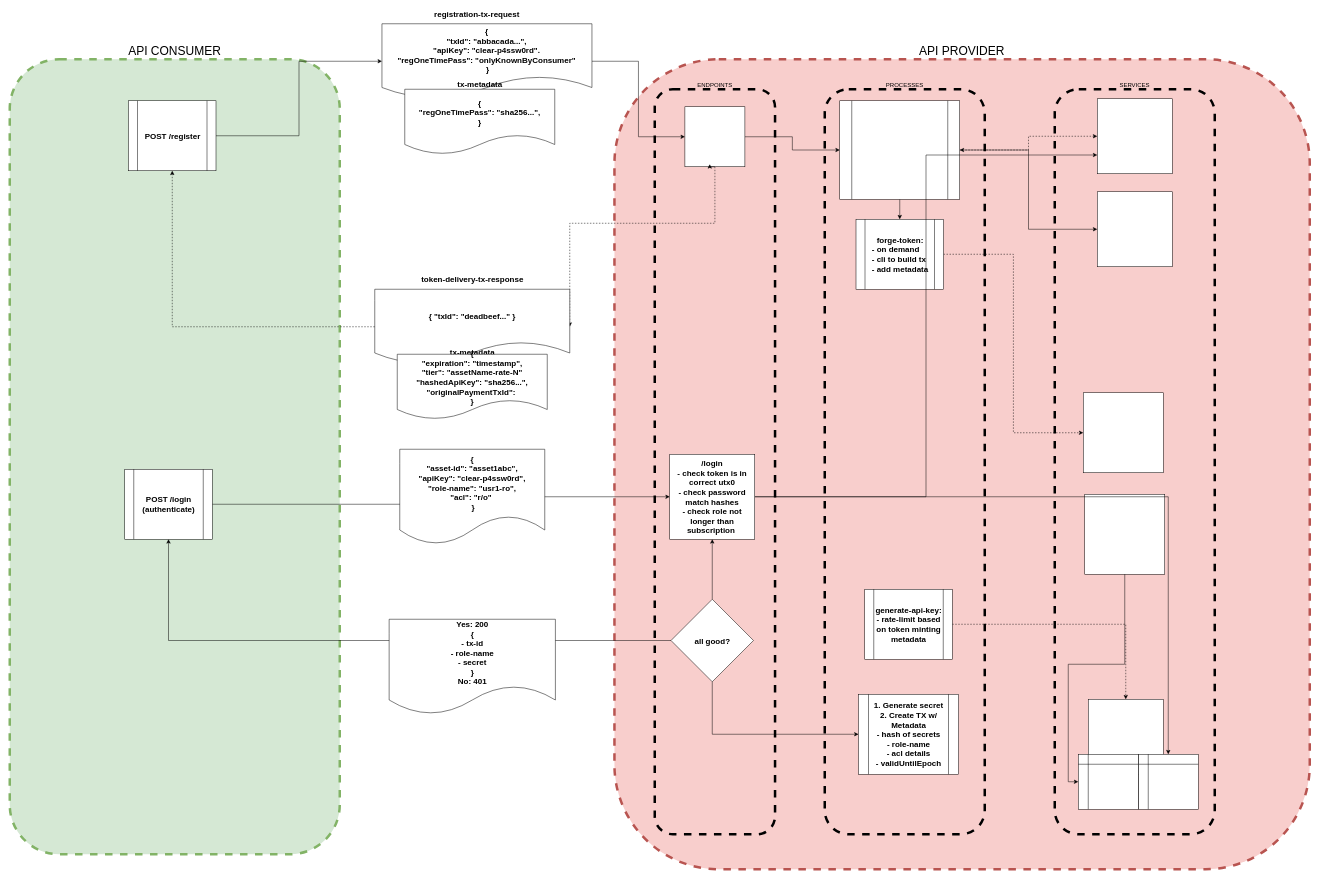
This 1320x879 diagram has some shape labels left out. The shapes that lost their labels are listed below. From the top down, each one's centre as x and y in pixels, then its label:
(x=714, y=136): /register
(x=899, y=149): check-payment: - it's first registration/re-registration? - is tmpPasswordValid?
(x=1134, y=136): cardano-graphql
(x=1134, y=229): cardano-wallet (balance custody)
(x=1123, y=432): Job Token Minter
(x=1124, y=534): Job Watch for our token to be transferred - Invalidate caches
(x=1125, y=736): kong (header-based rate limiter)
(x=1108, y=781): redis
(x=1168, y=781): postgres
